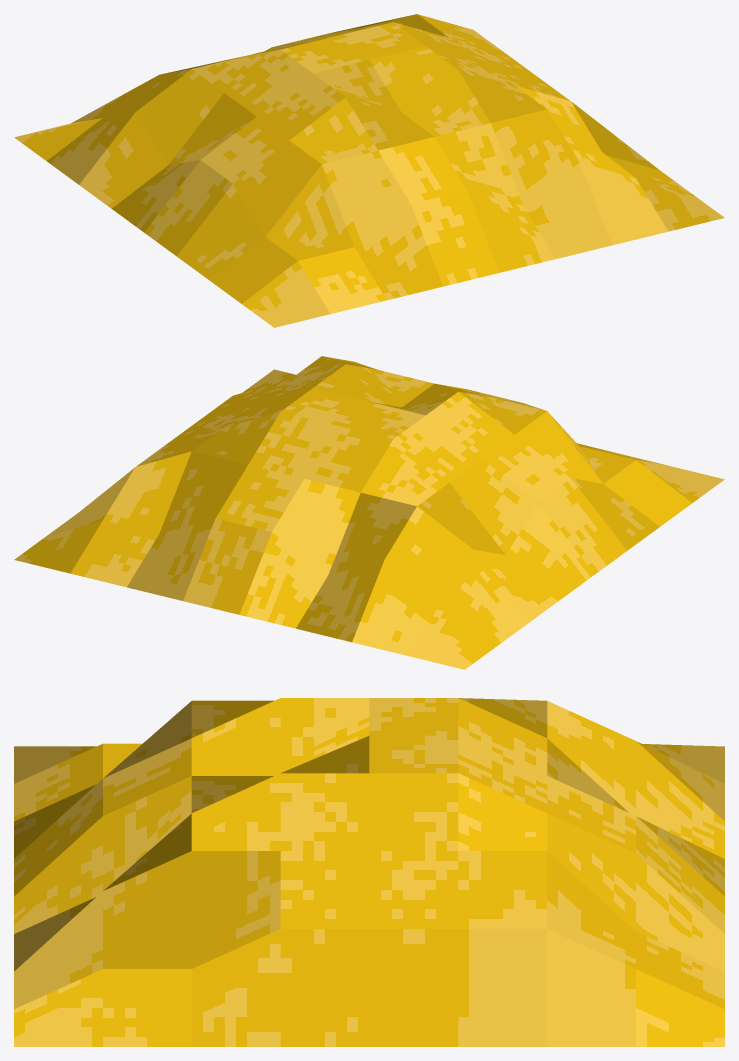
Rendered from Beach.fbx.
The picture shows the model from 3 angles, top to bottom: view 1: azimuth 30°, elevation 25°; view 2: azimuth 150°, elevation 25°; view 3: azimuth 270°, elevation 25°; orthographic projection. The views are drawn at different scales.
Visible parts, largest first — view 1: plane; view 2: plane; view 3: plane.
Boxes of the visible parts, box(x1,y1,x2,y2) form: plane: box(14, 14, 724, 327); plane: box(14, 356, 724, 669); plane: box(14, 698, 724, 1046).
Bounding box in the file's own units: 100 × 25 × 100.
1 material, 1 textured.
